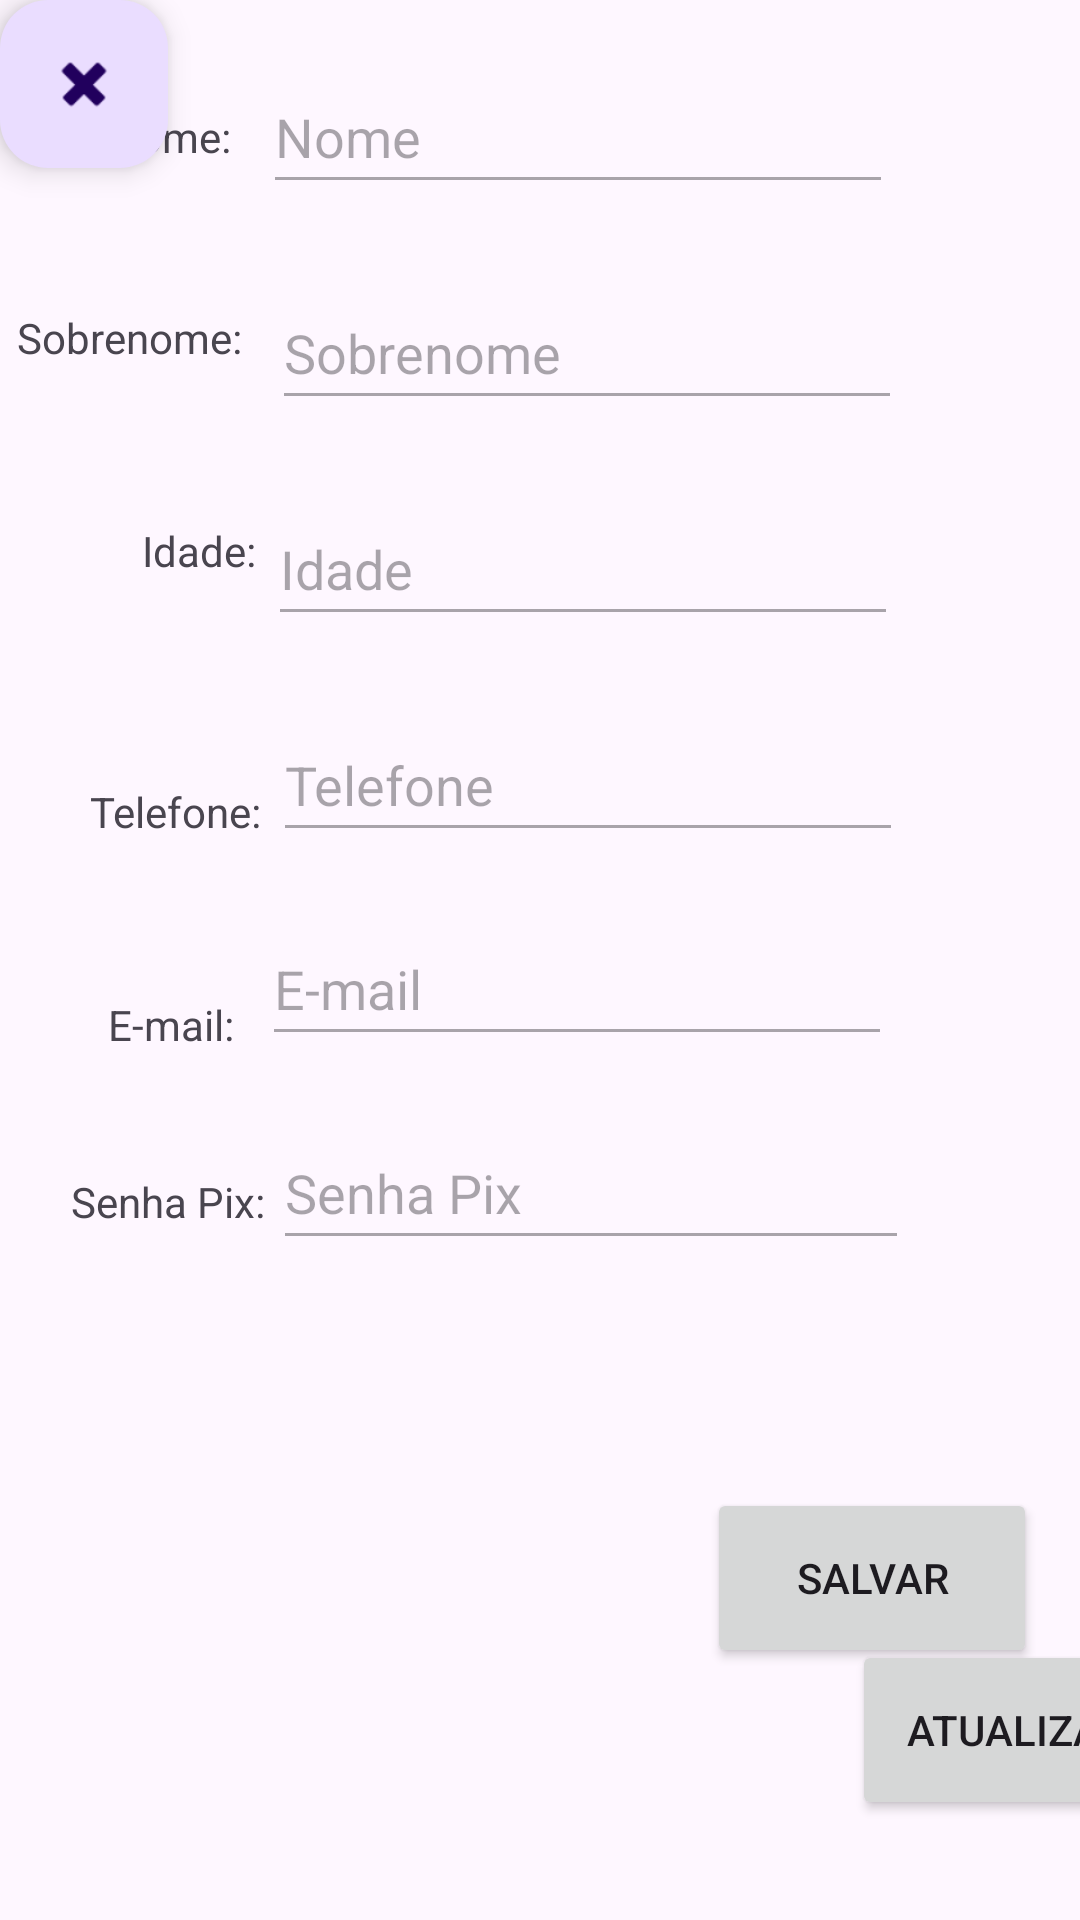

Icon bounding boxes for this 1080×1920 phone screenshot, format [x1,y1,x2,y2]:
Voltar: [0,0,168,168]
